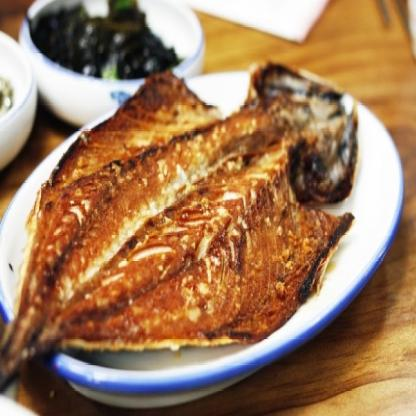Peixe: (0, 59, 365, 416)
